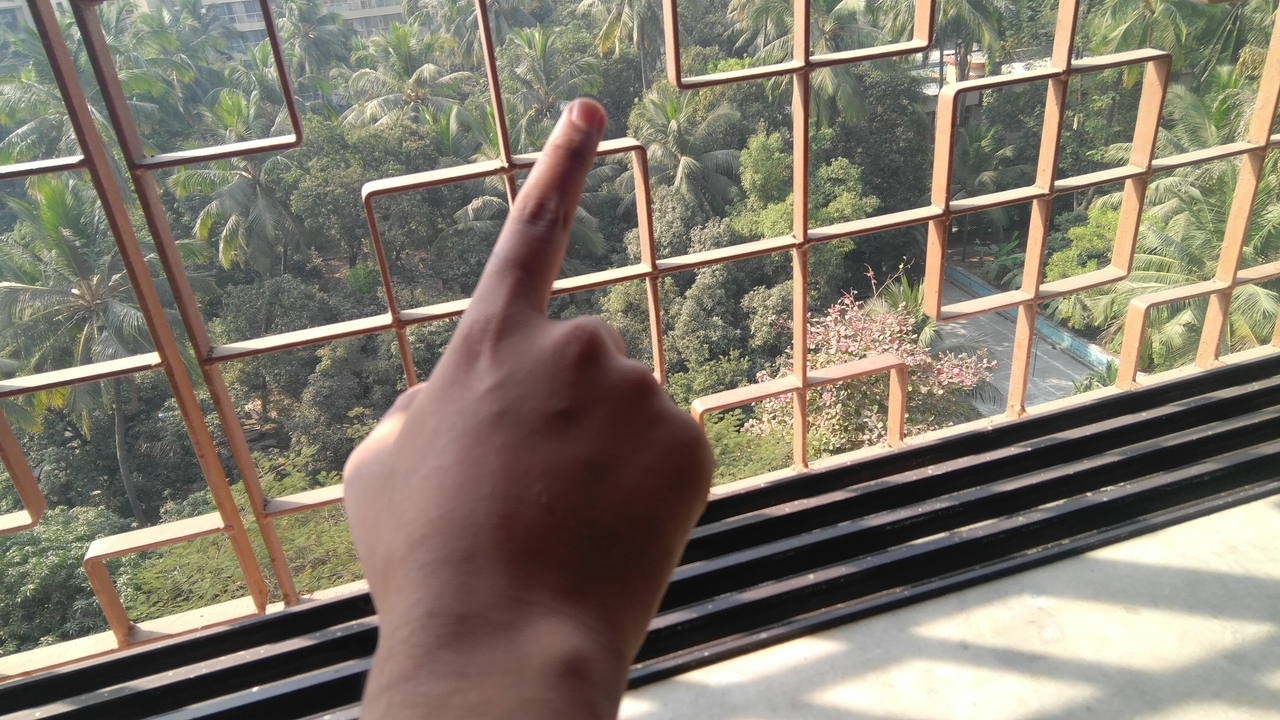fingertip: (550, 90, 610, 142)
